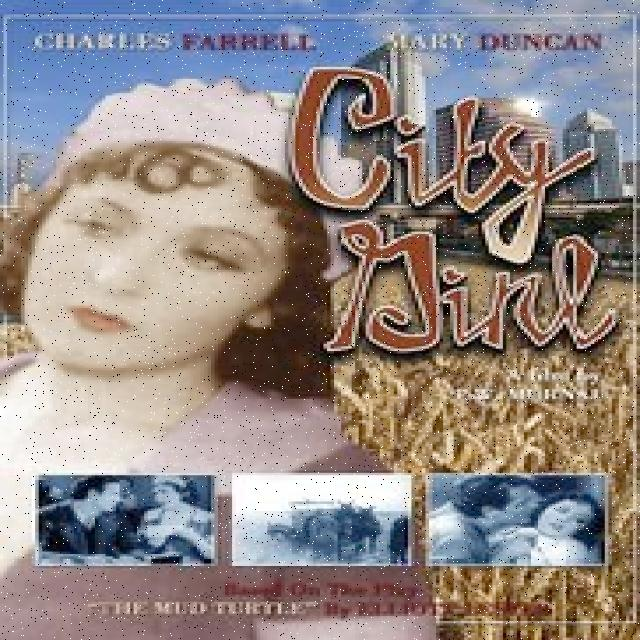movie-judul: (279, 65, 628, 360)
picture: (4, 83, 286, 460), (38, 476, 219, 570), (434, 473, 608, 565), (234, 481, 409, 563)
